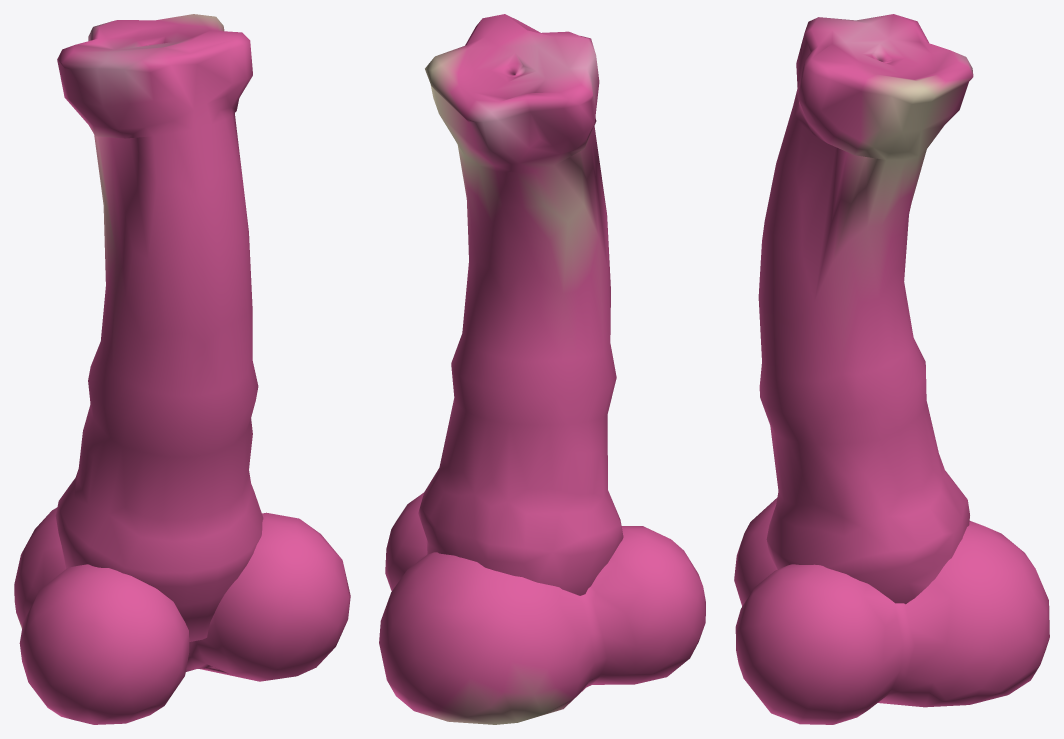
File: chess-knight-lod1.glb
The picture shows the model from 3 angles, left to right: view 1: azimuth 30°, elevation 25°; view 2: azimuth 150°, elevation 25°; view 3: azimuth 270°, elevation 25°; orthographic projection. The views are drawn at different scales.
Parts seen in each view (by area): view 1: knight; view 2: knight; view 3: knight.
Boxes of the visible parts, x1,y1,x2,y2 form: knight: [14, 14, 350, 724]; knight: [379, 14, 705, 724]; knight: [734, 14, 1049, 724].
Size of the model in its own units: 0.5081 by 1 by 0.4544.
